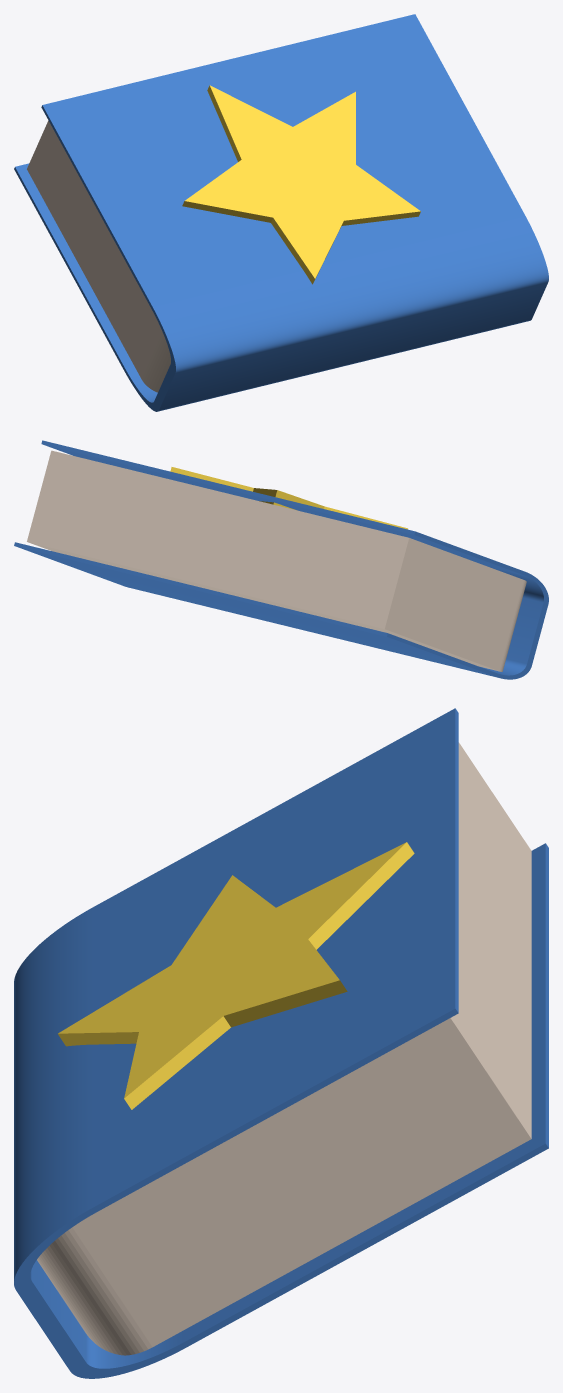
File: febrianes86-book-4292.glb
The picture shows the model from 3 angles, top to bottom: view 1: azimuth 30°, elevation 25°; view 2: azimuth 150°, elevation 25°; view 3: azimuth 270°, elevation 25°; orthographic projection. The views are drawn at different scales.
Visible parts, largest first — view 1: Cube.003, Circle.003, Cube.004; view 2: Cube.004, Cube.003, Circle.003; view 3: Cube.003, Cube.004, Circle.003.
Boxes of the visible parts, box(x1,y1,x2,y2) form: Cube.003: box(14, 14, 548, 411); Circle.003: box(182, 85, 420, 284); Cube.004: box(27, 120, 170, 392); Cube.004: box(27, 450, 526, 671); Cube.003: box(14, 440, 548, 679); Circle.003: box(170, 467, 407, 529); Cube.003: box(14, 708, 548, 1378); Cube.004: box(37, 742, 531, 1355); Circle.003: box(58, 842, 414, 1109).
Bounding box in the file's own units: 2.65 × 1.52 × 1.99.
